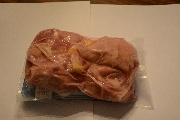chicken: (18, 28, 154, 111)
